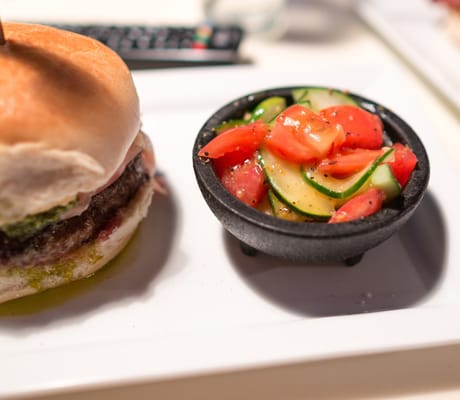soup: (0, 19, 167, 308)
sushi: (192, 83, 431, 265)
